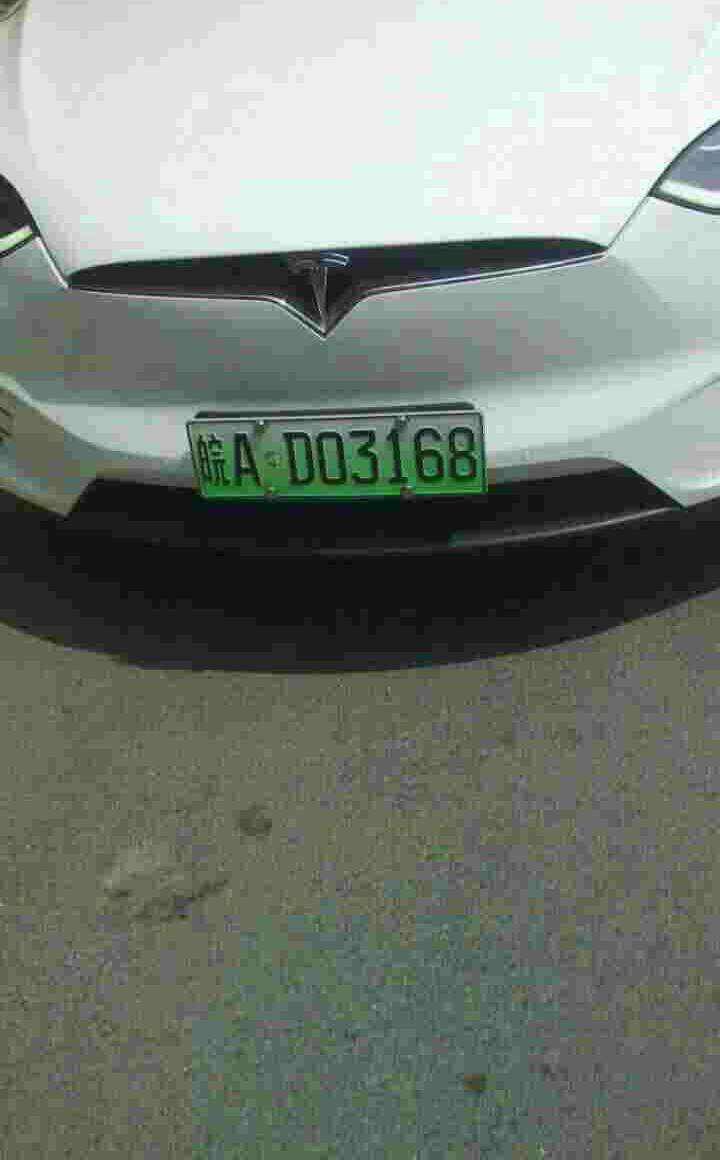car_id: (185, 412, 482, 495)
